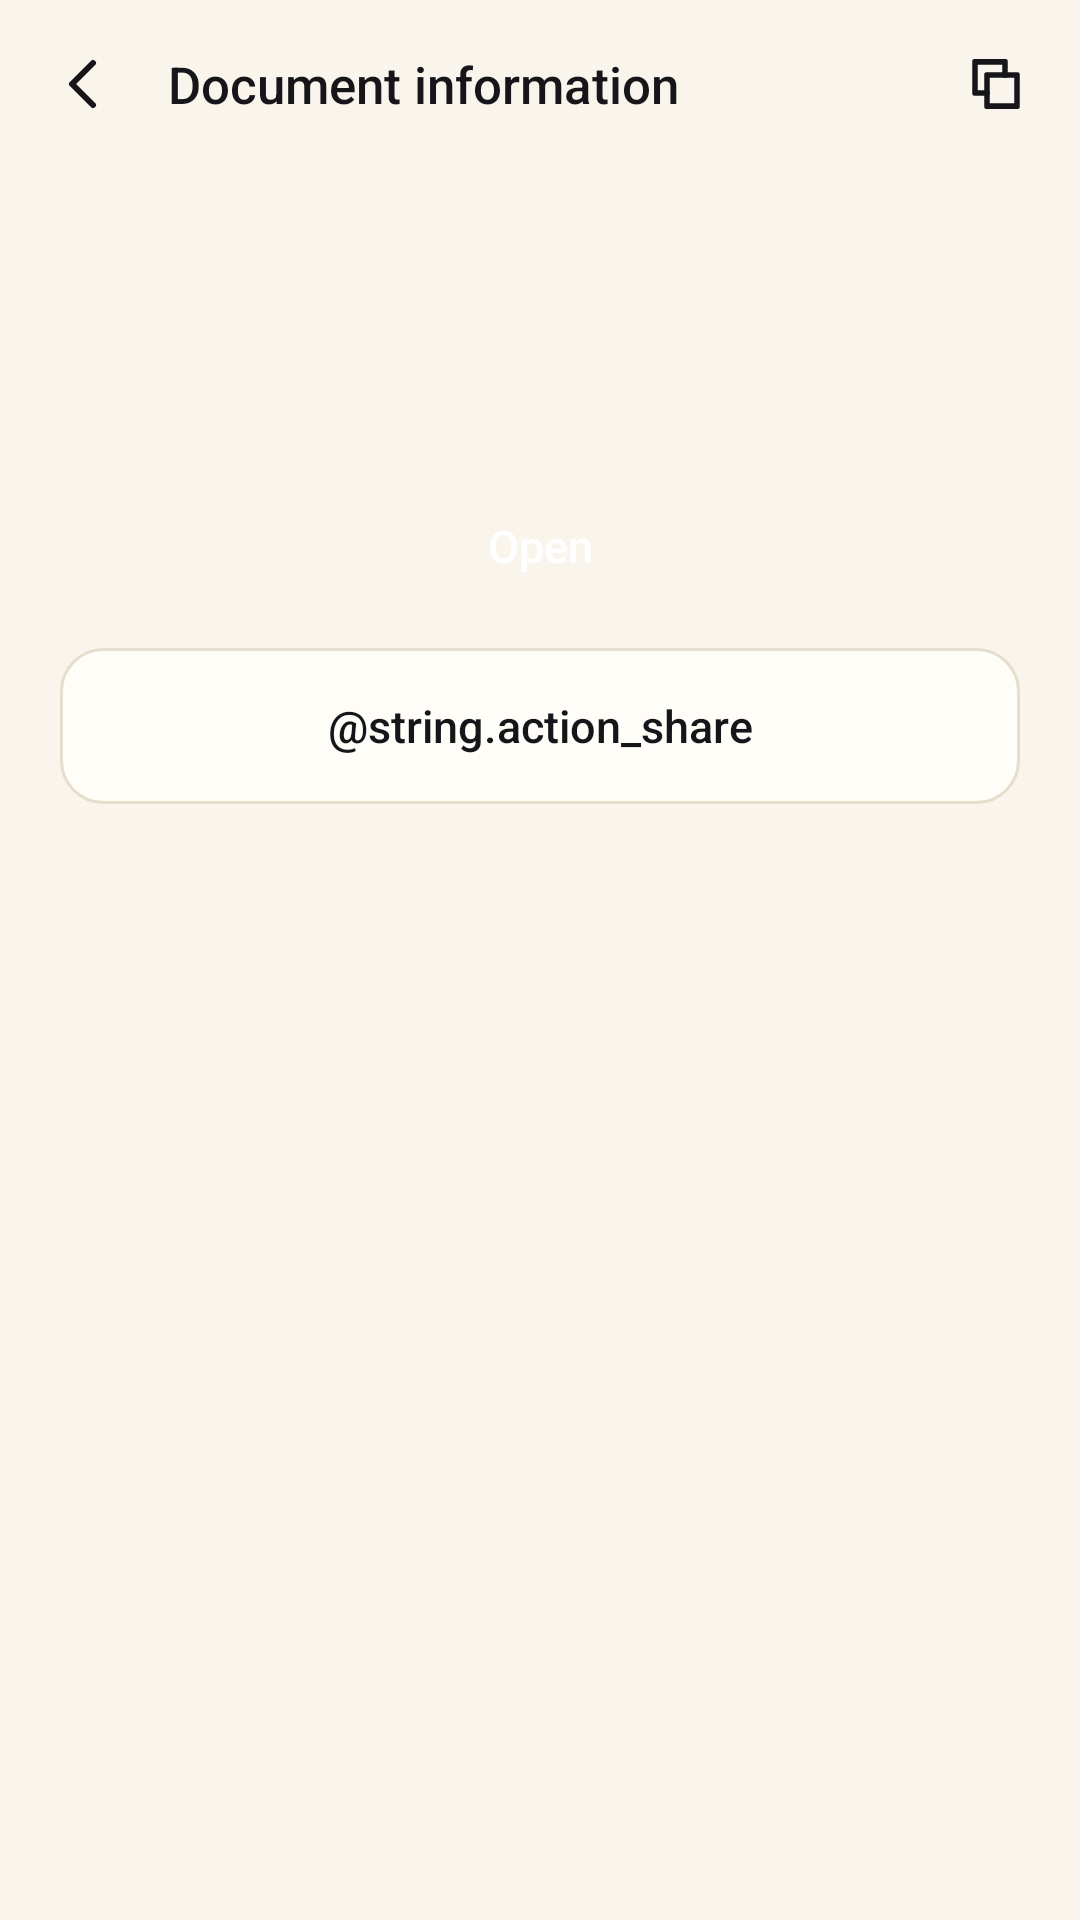

Where to tap for icons on this 1080w x 1920h app screen, as [x,y]:
Copy details: [996,84]
Navigate back: [82,84]
